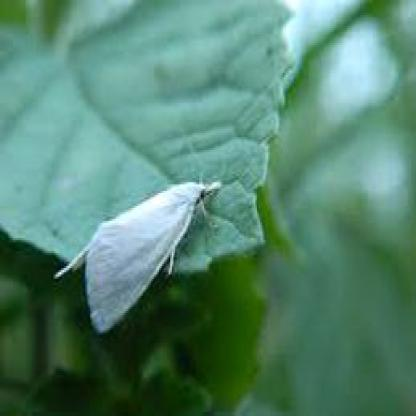stem-borer: (50, 173, 224, 336)
